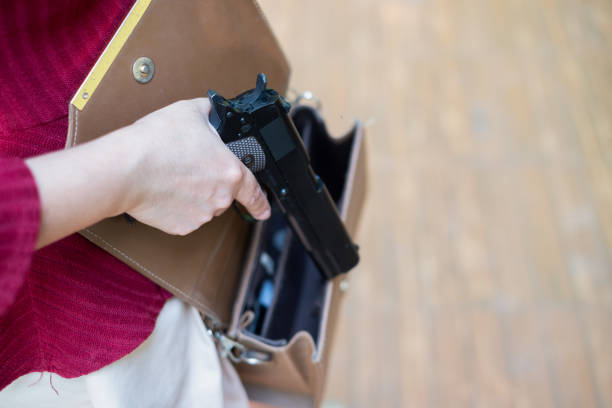gun: (209, 73, 363, 282)
